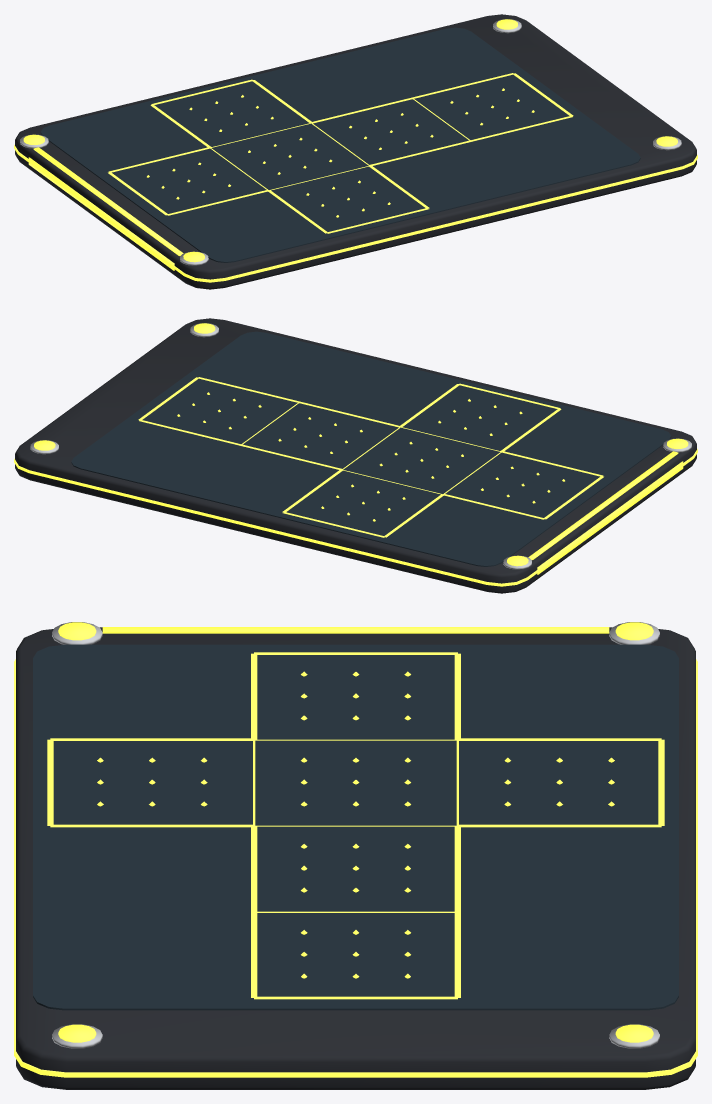
Rendered from data_holo_emitter.glb.
3 views of the same model, one above another, from view 1: azimuth 30°, elevation 25°; view 2: azimuth 150°, elevation 25°; view 3: azimuth 270°, elevation 25° (orthographic). The views are drawn at different scales.
Visible parts, largest first — view 1: Glanz, Koerper, Kern, Saum, Metall; view 2: Glanz, Koerper, Kern, Saum, Metall; view 3: Glanz, Koerper, Kern, Saum, Metall.
Boxes of the visible parts, x1,y1,x2,y2 form: Glanz: (40, 27, 640, 262); Koerper: (15, 14, 696, 289); Kern: (23, 19, 677, 270); Saum: (14, 99, 697, 282); Metall: (20, 19, 681, 265); Glanz: (71, 331, 671, 566); Koerper: (15, 318, 696, 593); Kern: (34, 323, 688, 574); Saum: (14, 403, 697, 586); Metall: (30, 323, 691, 569); Glanz: (33, 644, 678, 1010); Koerper: (16, 627, 695, 1089); Kern: (47, 622, 664, 1042); Saum: (14, 659, 697, 1077); Metall: (52, 622, 659, 1048).
Size of the model in its own units: 1.62 by 0.0705 by 1.08.
